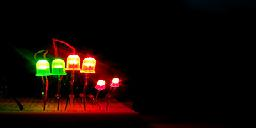LED: (31, 56, 51, 80), (65, 51, 81, 73), (81, 55, 96, 76), (52, 58, 65, 78), (92, 78, 107, 92), (109, 76, 121, 90)
